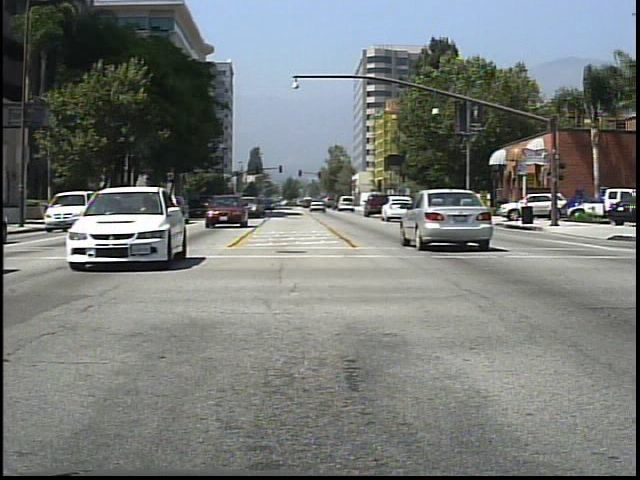person: (432, 190, 448, 218), (463, 190, 477, 222)
